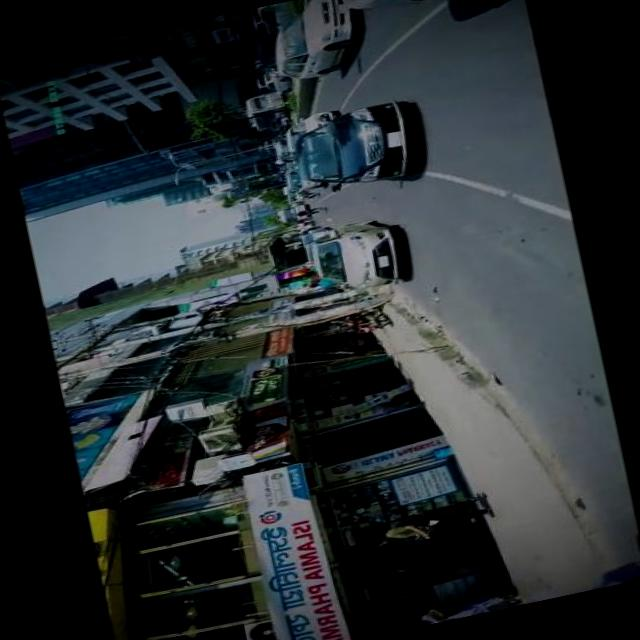bus: (240, 91, 284, 132), (272, 201, 302, 223)
car: (282, 97, 415, 196), (303, 211, 404, 299), (259, 0, 359, 83), (276, 106, 335, 155), (280, 162, 320, 192)
